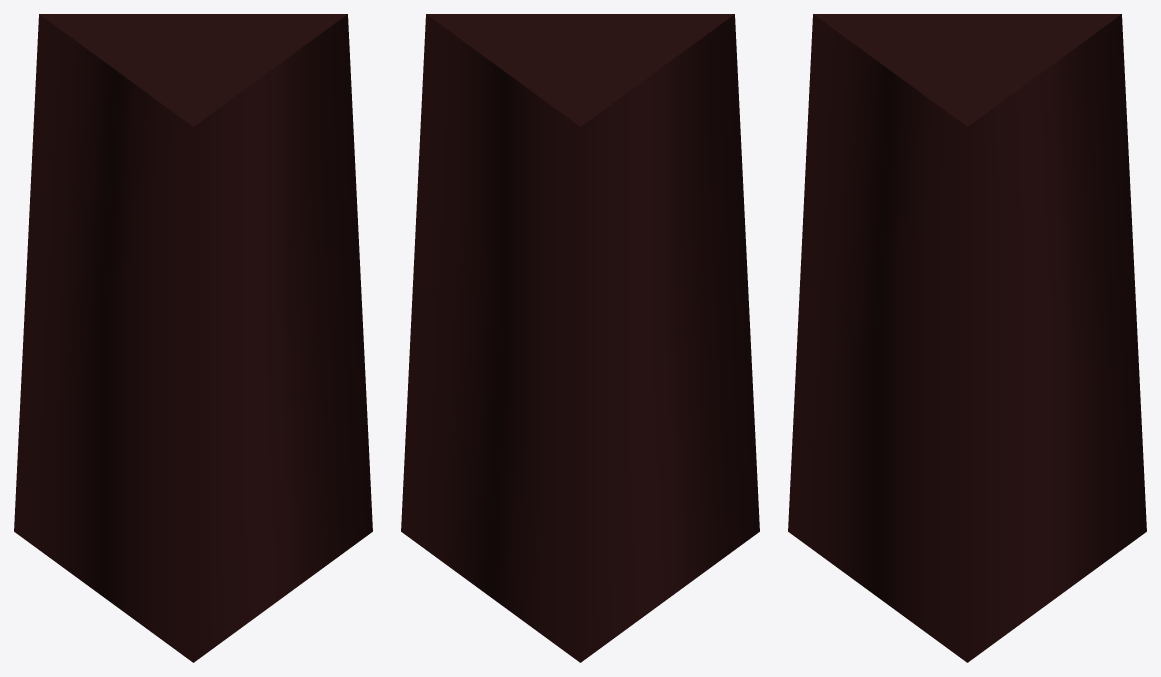
The model's file is FirTreeStump.FBX.
3 views of the same model, side by side, from view 1: azimuth 30°, elevation 25°; view 2: azimuth 150°, elevation 25°; view 3: azimuth 270°, elevation 25° (orthographic).
Parts seen in each view (by area): view 1: Tree; view 2: Tree; view 3: Tree.
Part boxes in pixels (x1,y1,x2,y2): Tree: [14, 14, 372, 662]; Tree: [401, 14, 759, 662]; Tree: [788, 14, 1146, 662].
Size of the model in its own units: 2.95 by 5.49 by 3.41.
